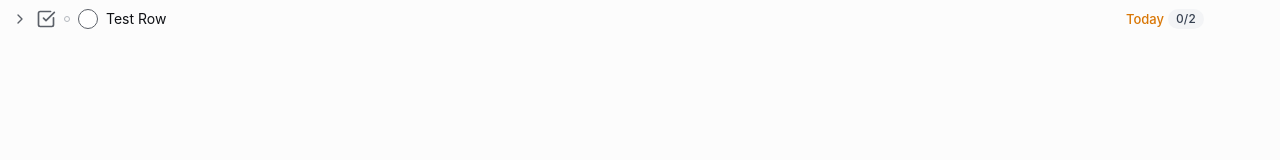
Scenario: TreeRow — inline subtasks › task with subtasks shows the chevron (>) and clicking it expands subtasks
expect the text "Sub Inline 1" is not shown: met
Click the button named "expand" at (20, 19), box left=12, top=11, right=28, bottom=27
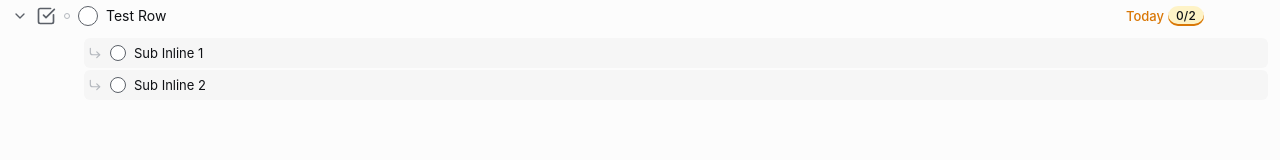
expect the button "Sub Inline 1" is shown: met, box left=134, top=43, right=1264, bottom=63
expect the button "Sub Inline 2" is shown: met, box left=134, top=75, right=1264, bottom=95
